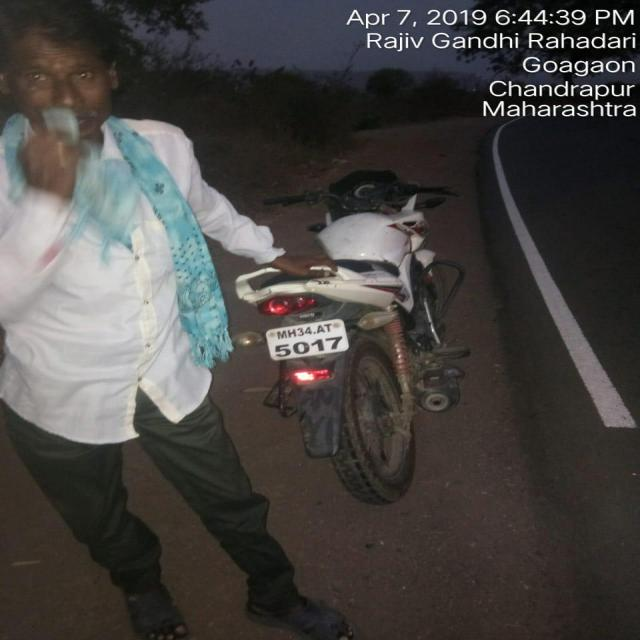plate: (249, 318, 359, 365)
